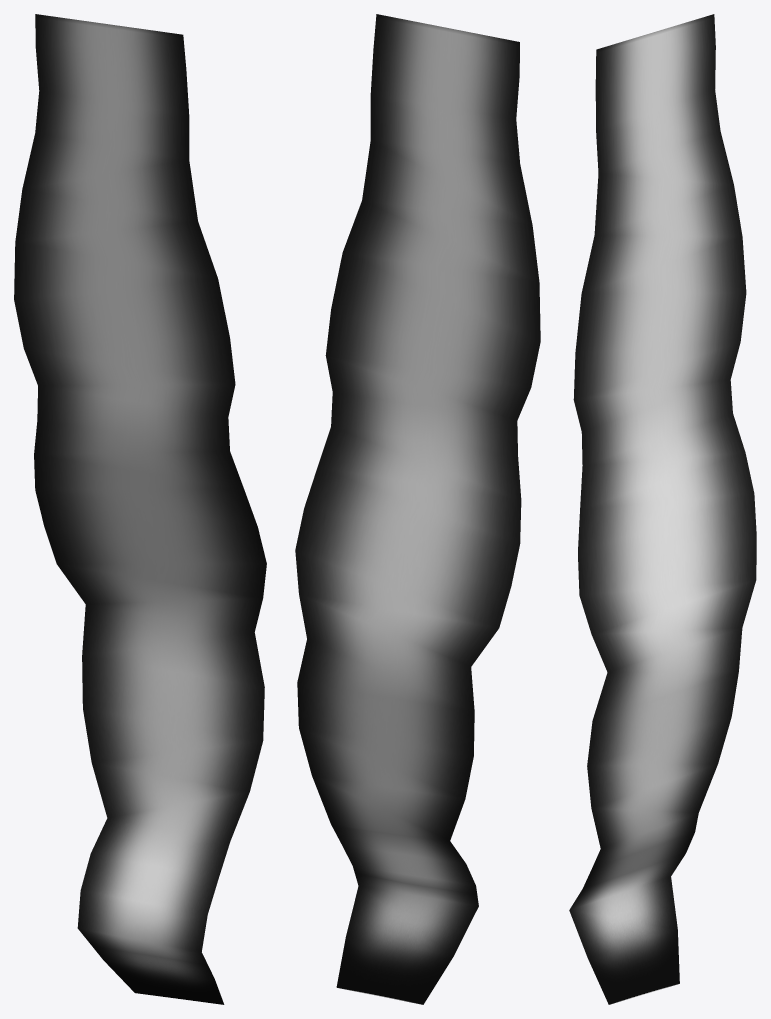
Rendered from texiao02.FBX.
3 renders of one model, left to right at view 1: azimuth 30°, elevation 25°; view 2: azimuth 210°, elevation 25°; view 3: azimuth 270°, elevation 25°, orthographic. The views are drawn at different scales.
Visible parts, largest first — view 1: texiao02; view 2: texiao02; view 3: texiao02.
Part boxes in pixels (x1,y1,x2,y2): texiao02: [14, 14, 266, 1004]; texiao02: [295, 14, 540, 1004]; texiao02: [569, 14, 756, 1004].
Size of the model in its own units: 8.43 by 46.85 by 8.51.
